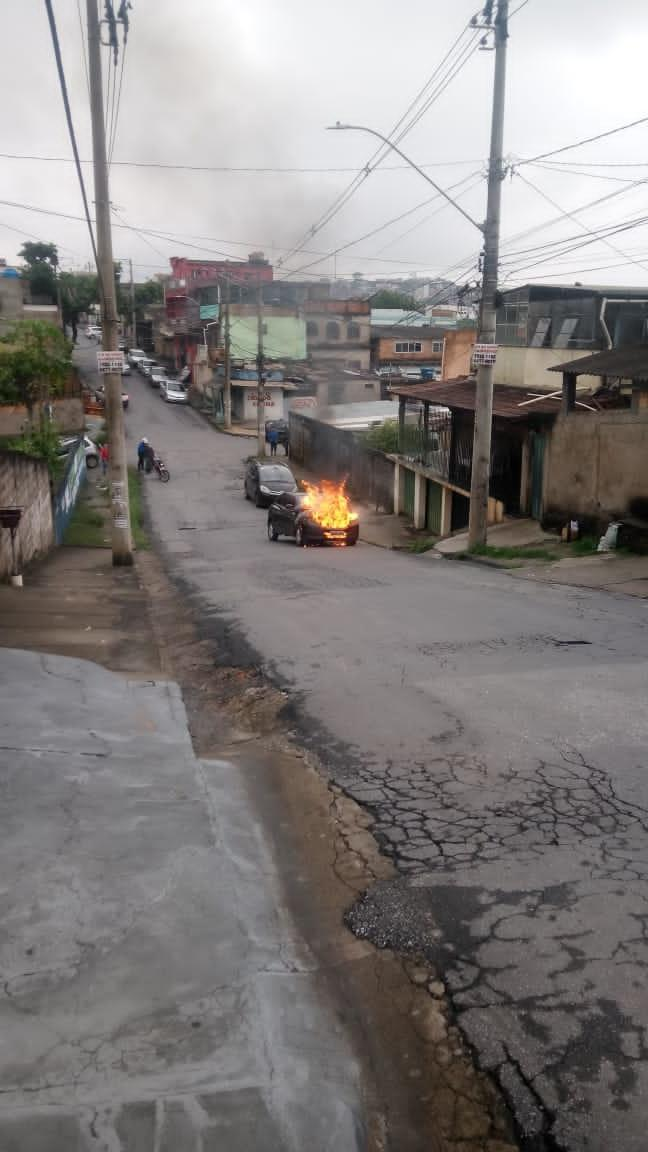Fire: (299, 483, 362, 541)
